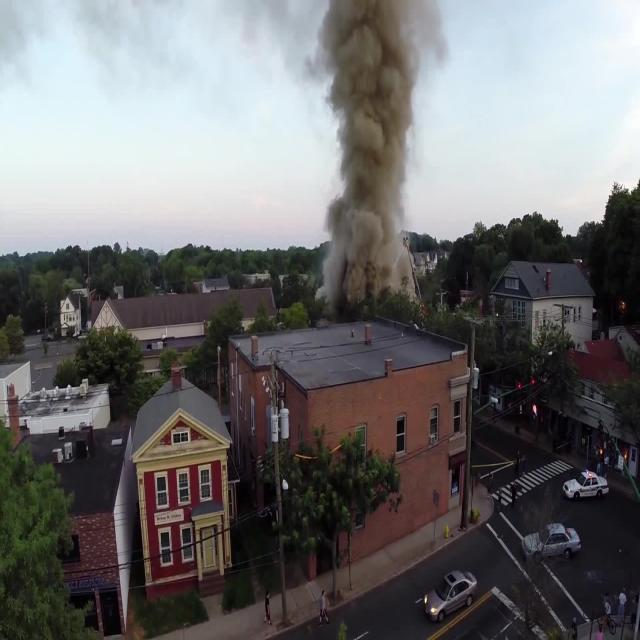Smoke: (304, 0, 450, 307)
